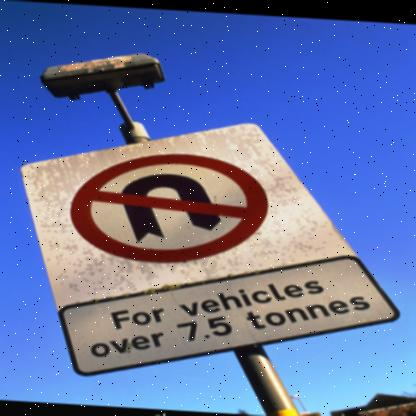No U-turn: (71, 144, 275, 268)
